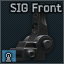MCX flip-up front sight: (0, 0, 64, 64)
